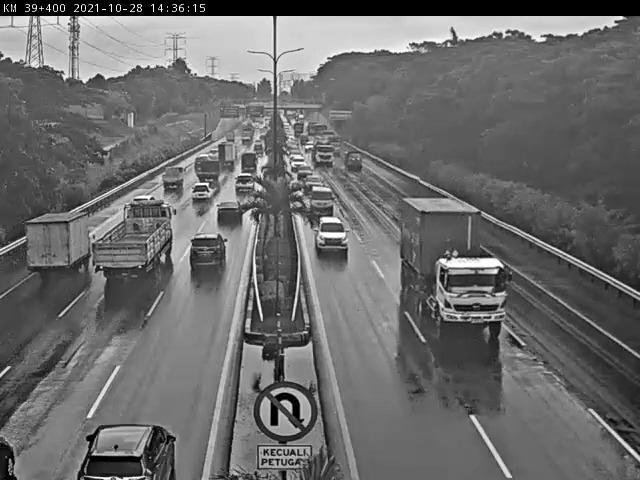big truck: (398, 196, 507, 335), (94, 199, 177, 278)
car: (190, 231, 229, 270), (313, 215, 350, 254), (309, 187, 336, 216), (214, 199, 244, 224), (190, 182, 216, 203), (233, 172, 257, 194), (305, 173, 326, 193), (131, 194, 157, 207)
small truck: (25, 209, 93, 276), (196, 158, 223, 184), (162, 164, 188, 189)
